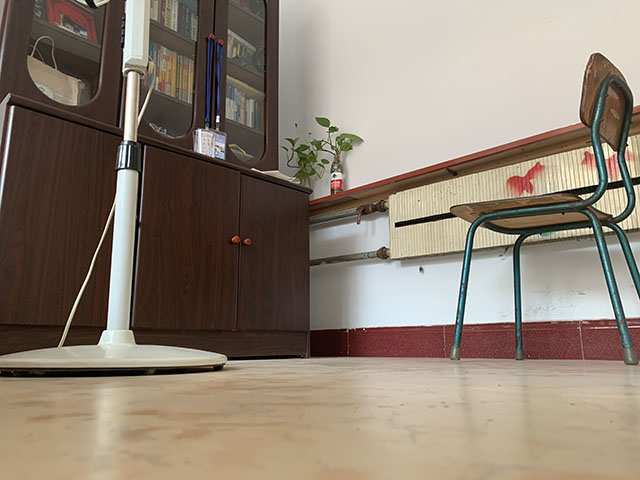cabinet: (1, 86, 318, 361)
stool: (444, 50, 639, 367)
wire: (57, 56, 159, 348)
